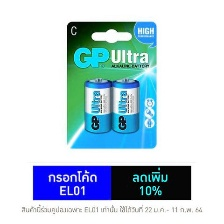battery: (82, 76, 113, 135), (110, 76, 141, 134)
book: (63, 19, 159, 152)
